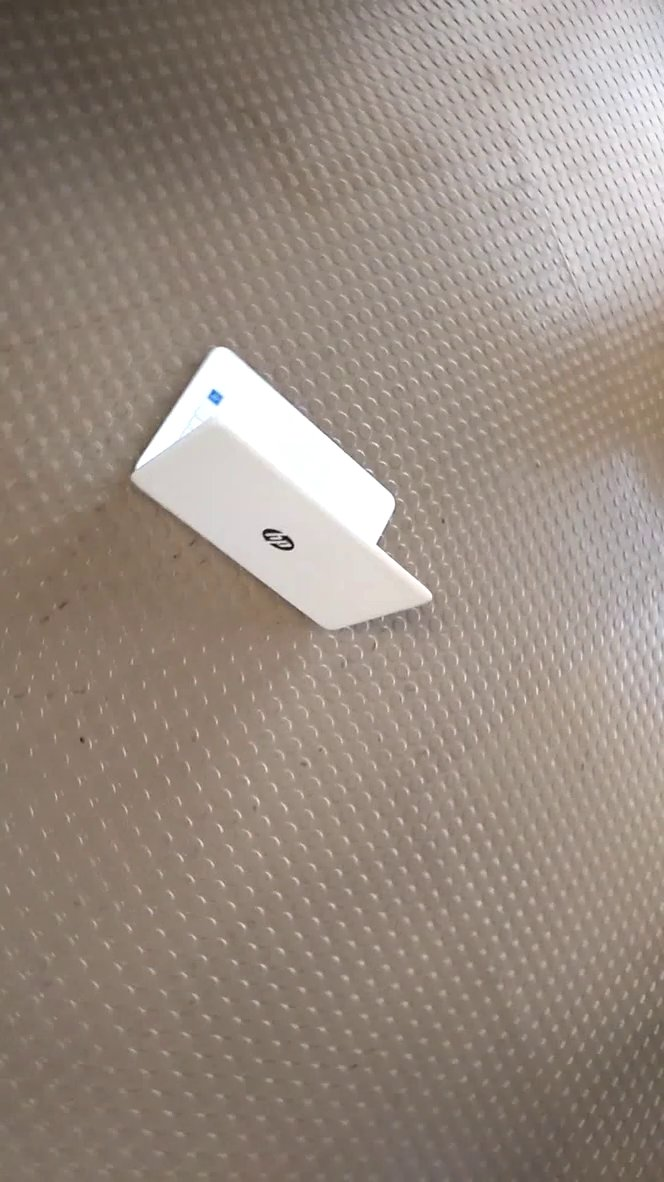laptop: (123, 330, 447, 656)
